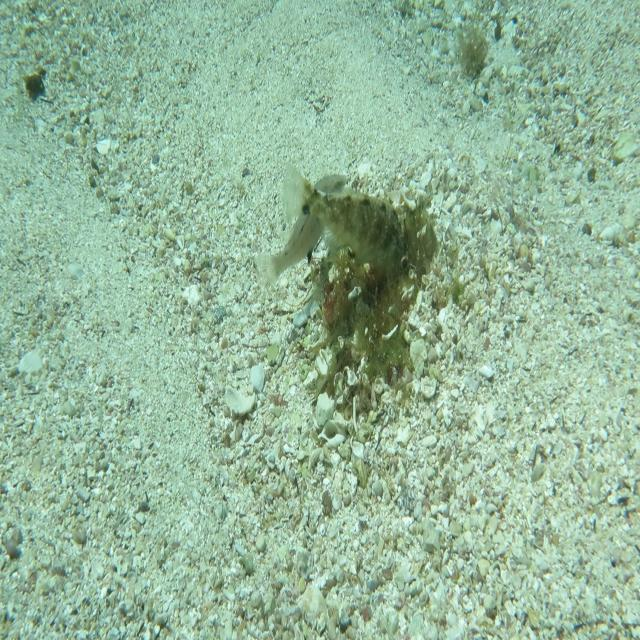INSF: (283, 160, 412, 278)
core_nest: (382, 227, 424, 272)
female: (253, 172, 347, 296)
nest: (301, 164, 454, 420)
